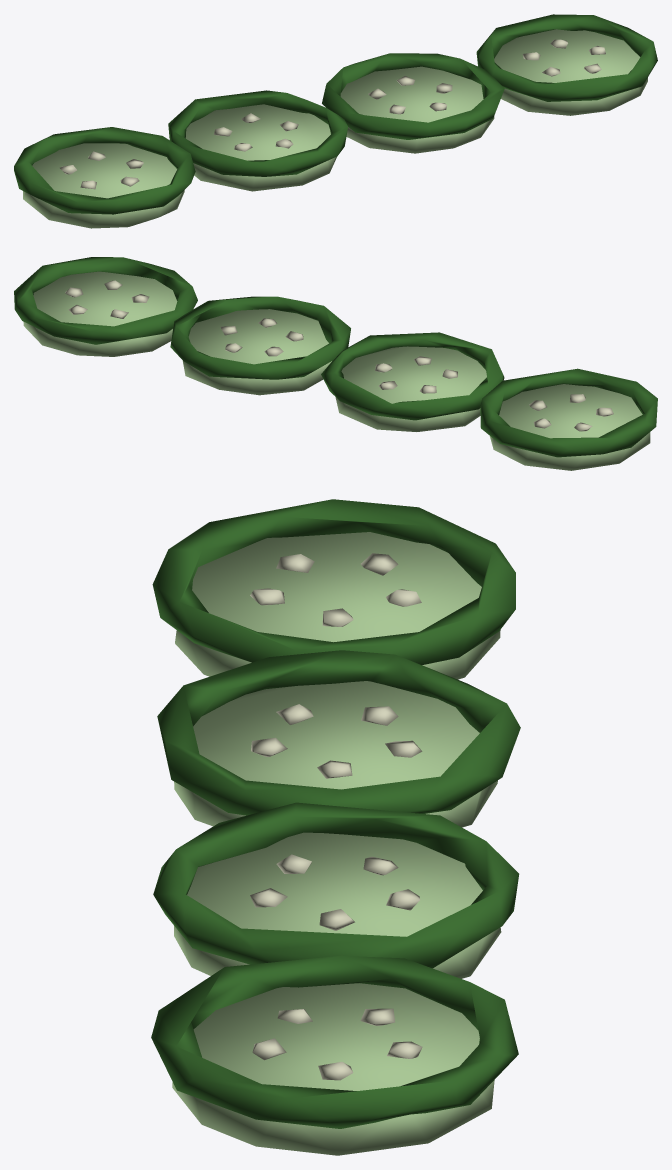
The model's file is dua_leo_lat.glb.
3 views of the same model, one above another, from view 1: azimuth 30°, elevation 25°; view 2: azimuth 150°, elevation 25°; view 3: azimuth 270°, elevation 25° (orthographic). The views are drawn at different scales.
Parts seen in each view (by area): view 1: dua_leo_lat; view 2: dua_leo_lat; view 3: dua_leo_lat.
Boxes of the visible parts, x1,y1,x2,y2 form: dua_leo_lat: (14, 14, 657, 228); dua_leo_lat: (14, 257, 657, 470); dua_leo_lat: (151, 499, 520, 1155).
Bounding box in the file's own units: 0.2016 × 0.01 × 0.0518.
